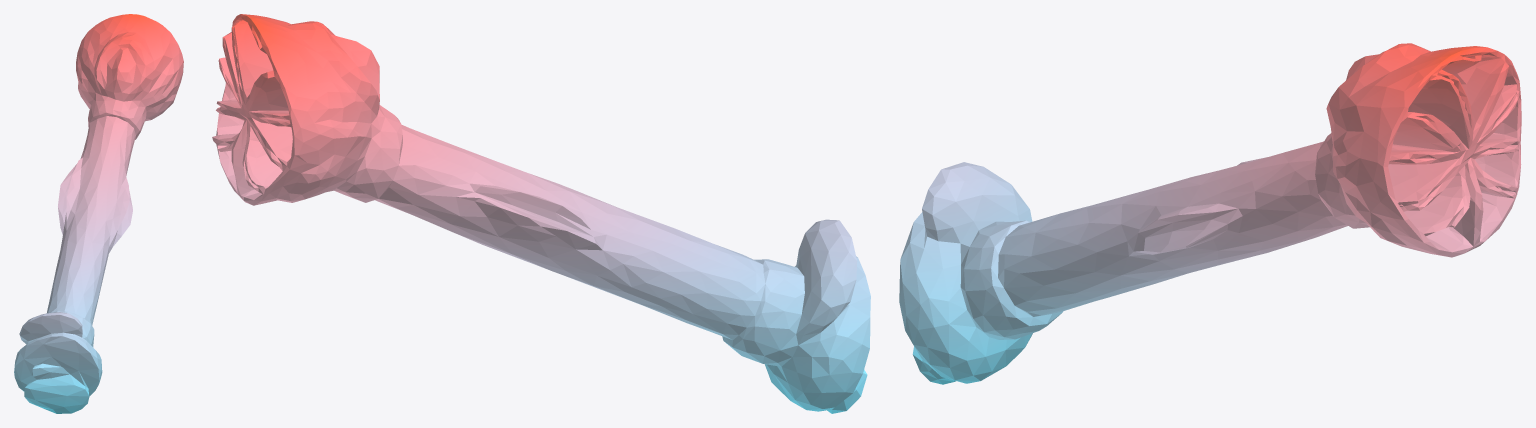
Rendered from 94_cyb_laser_gradient_fish_scales_2912_2026_10_03_e81b36.glb.
3 views of the same model, side by side, from view 1: azimuth 30°, elevation 25°; view 2: azimuth 150°, elevation 25°; view 3: azimuth 270°, elevation 25° (orthographic). The views are drawn at different scales.
Parts seen in each view (by area): view 1: geometry_0; view 2: geometry_0; view 3: geometry_0.
Part boxes in pixels (x1,y1,x2,y2): geometry_0: (14, 14, 183, 413); geometry_0: (212, 14, 870, 413); geometry_0: (899, 43, 1521, 384).
Size of the model in its own units: 0.985 by 0.9225 by 0.9985.
